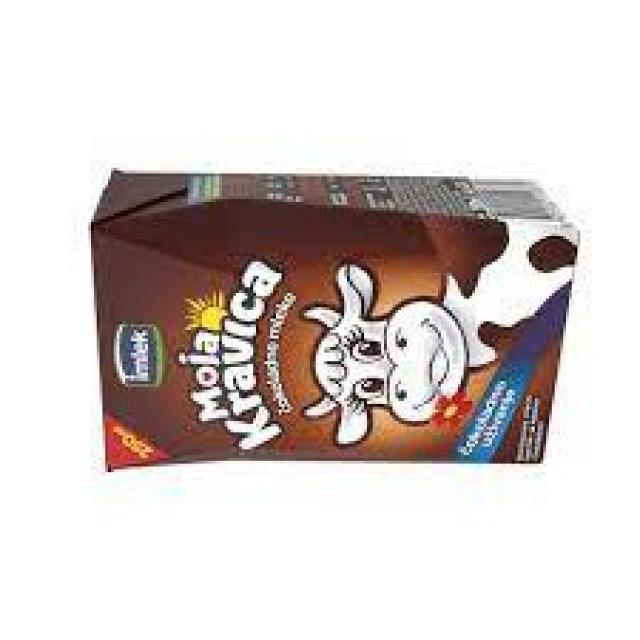non_white_jug: (79, 163, 581, 473)
